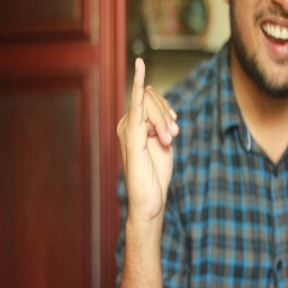I: (115, 55, 182, 212)
